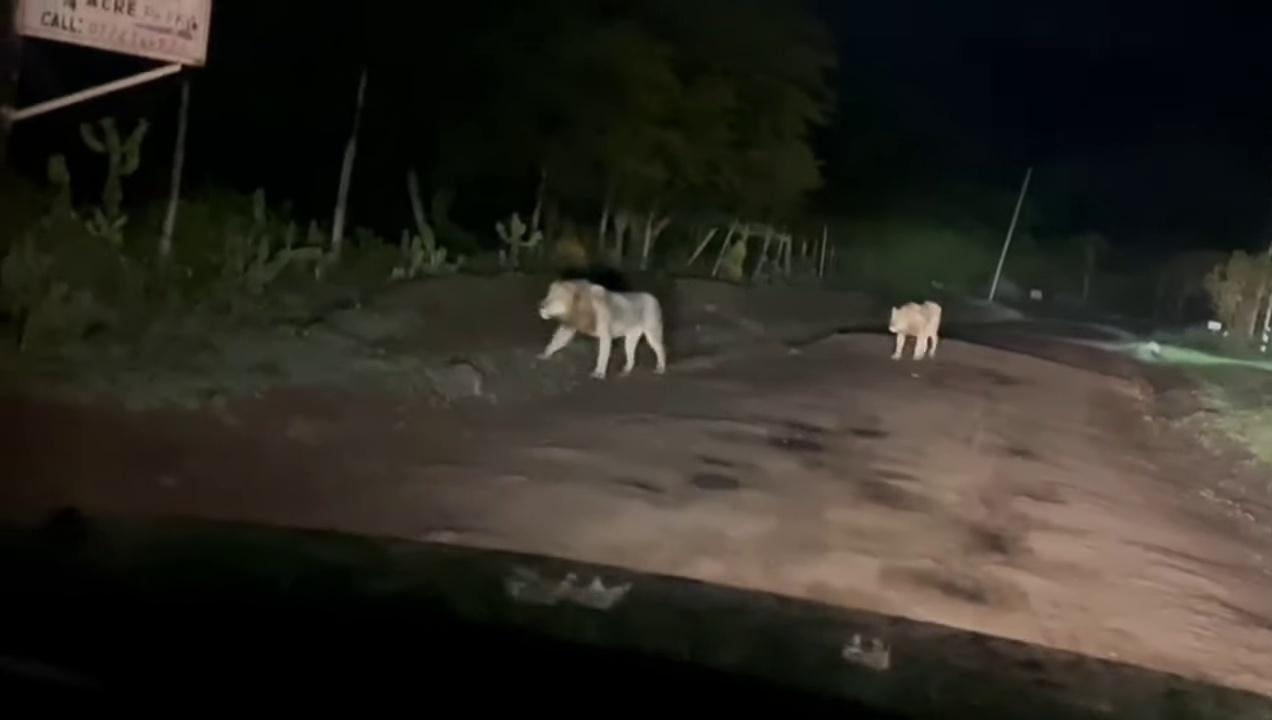lions: (520, 267, 680, 378), (878, 287, 975, 385)
